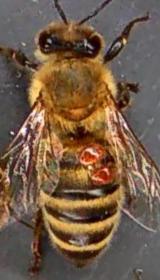varroa_mite: (72, 138, 110, 168), (78, 166, 114, 195)
